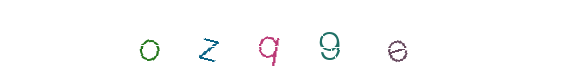9: (247, 0, 327, 80)
E: (306, 0, 386, 80)
O: (201, 0, 281, 80)
Q: (245, 0, 325, 80)
Z: (230, 0, 310, 80)
